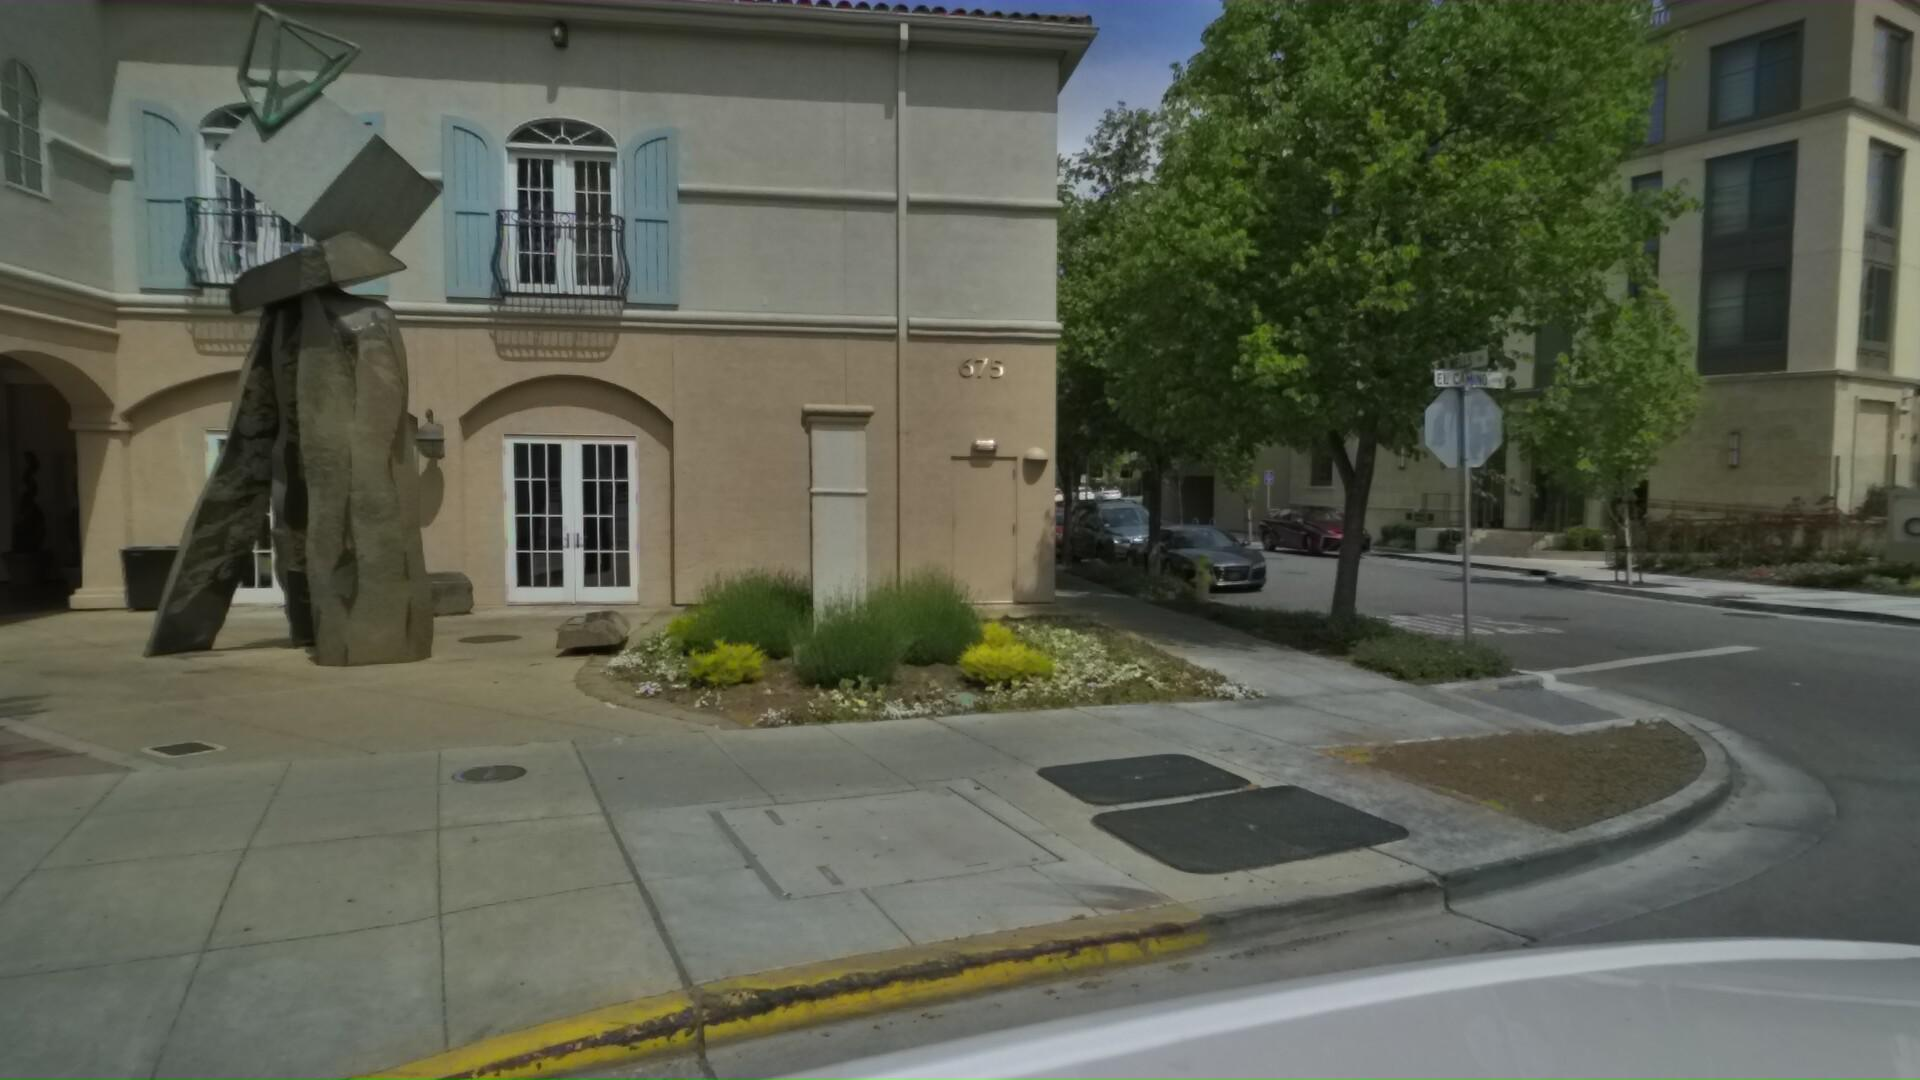car: (1126, 514, 1305, 596), (1064, 495, 1207, 572), (1258, 502, 1394, 556)
